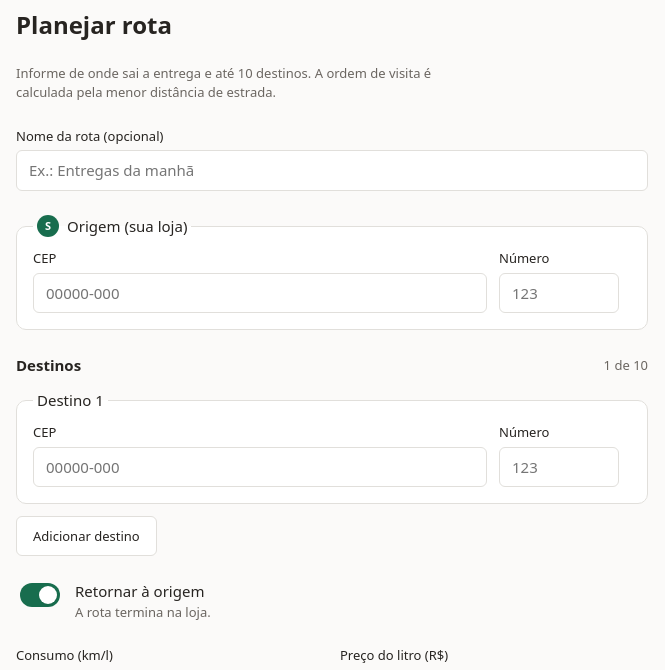
Test: PlanPage › avisa quando o CEP não existe
In the field labelled "CEP" below "Origem (sua loja)": (260, 293) [33, 273, 487, 313], type "99999999"
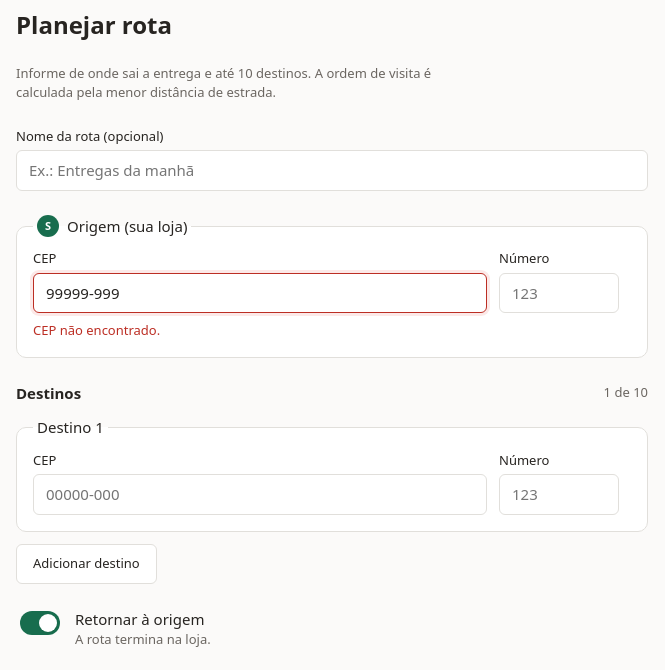
Now the text "CEP não encontrado." is shown, box [33, 321, 160, 339]
